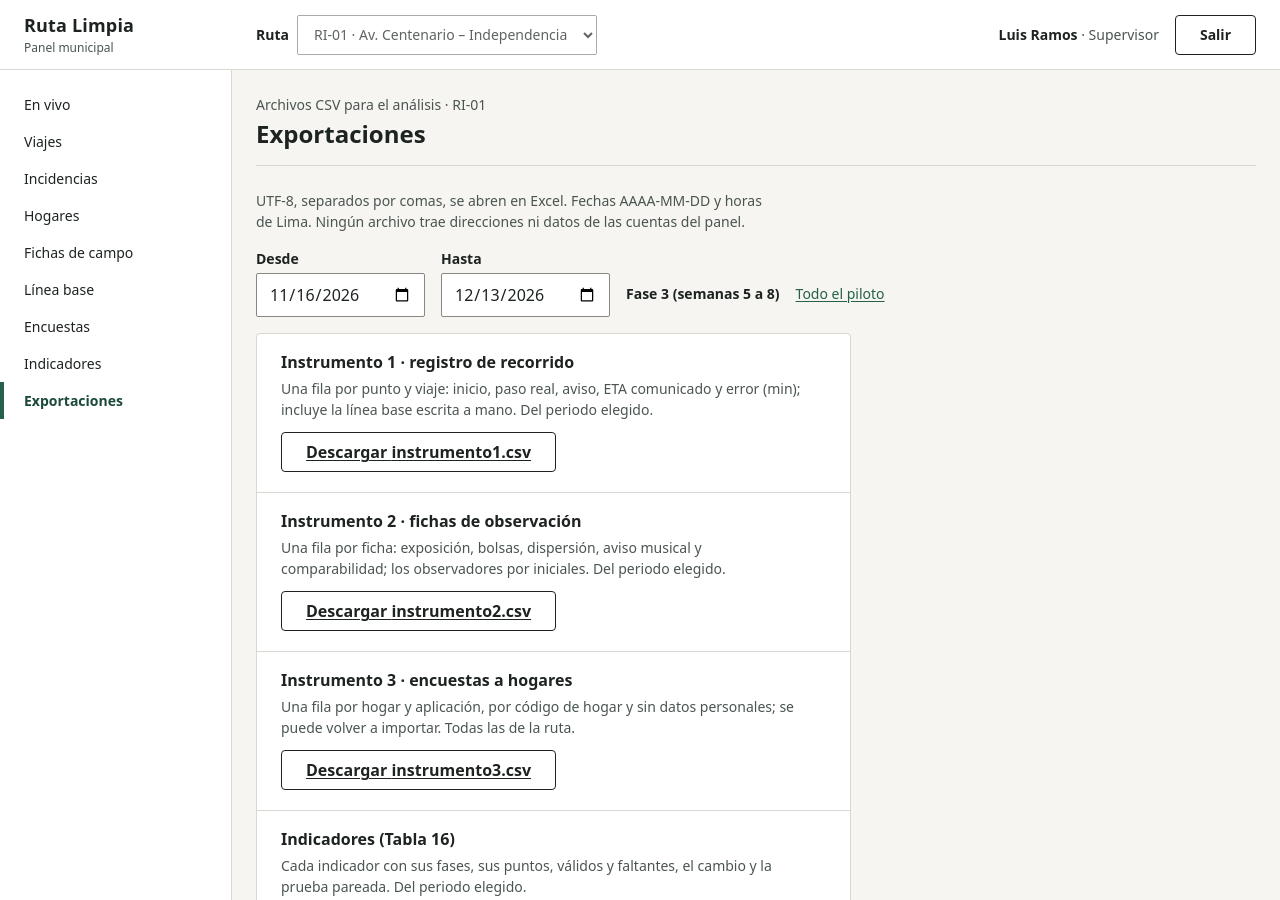
Test: ExportsPage › hides the links and explains a reversed period
In the date field labelled "Hasta": (526, 295) left=441, top=273, right=610, bottom=317, type "2026-11-01"
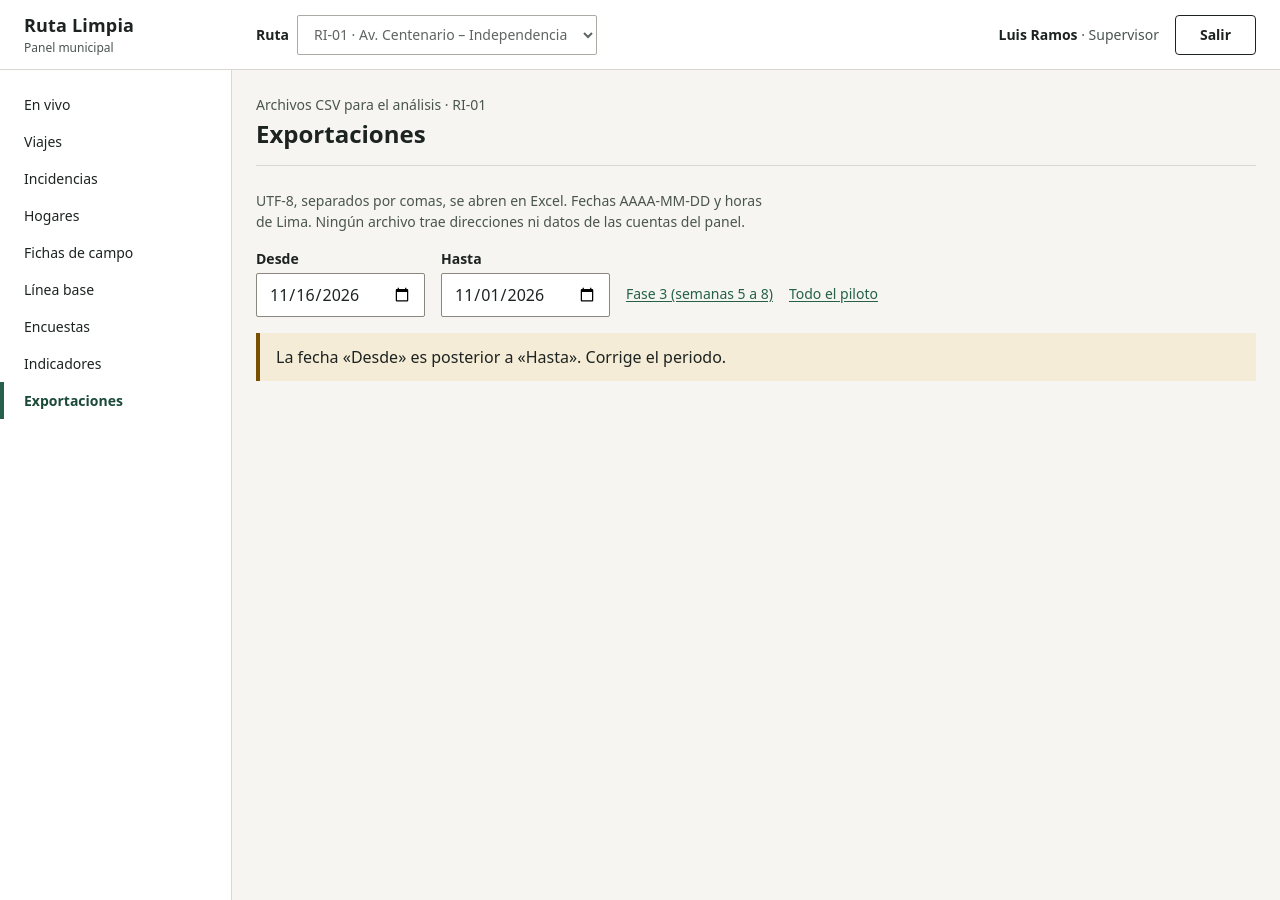
Check: the text "La fecha «Desde» es posterior a «Hasta». Corrige el periodo." is shown, box left=276, top=346, right=726, bottom=368
Check: no links "Descargar " are shown
